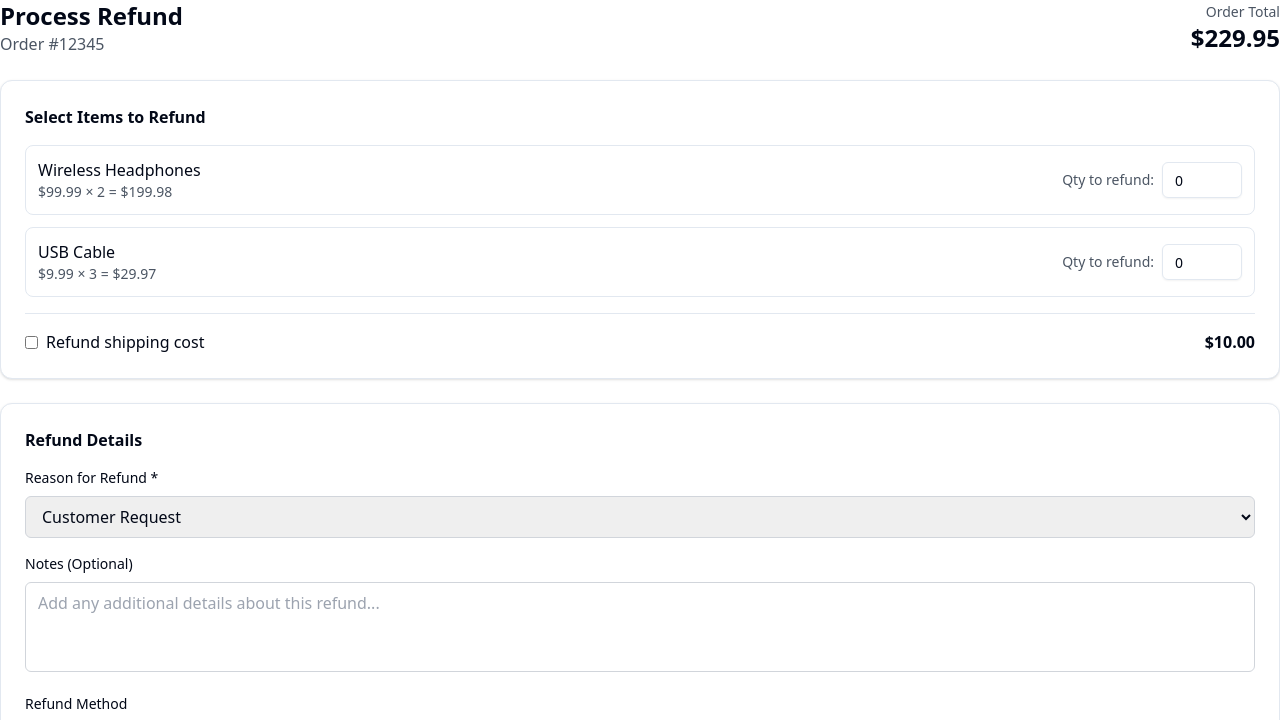
Test: RefundInterface › shows completion message after successful refund
Replace the text in the number field with test id "qty-1" with "1". click: (1202,180)
box: x1=1162 y1=162 x2=1242 y2=198
(page scrolled)
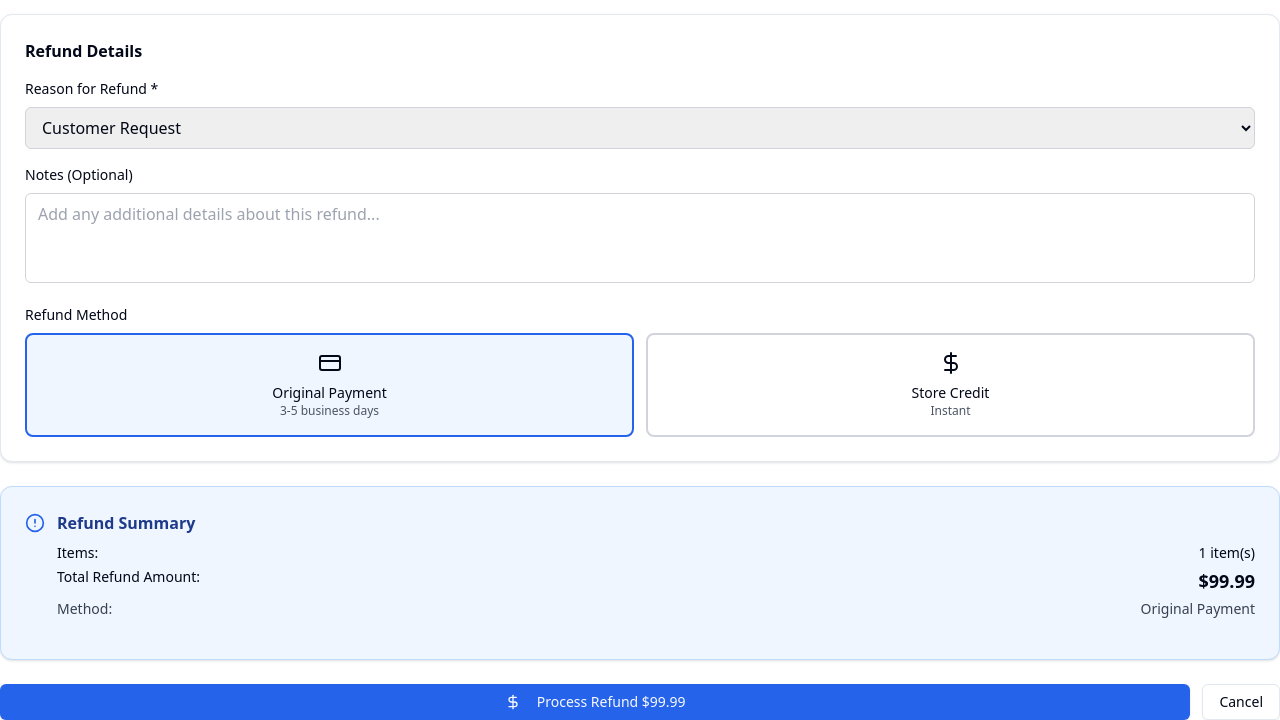
Click the button with test id "submit-refund". click: (595,702)
box: x1=0 y1=684 x2=1190 y2=719
(page scrolled)
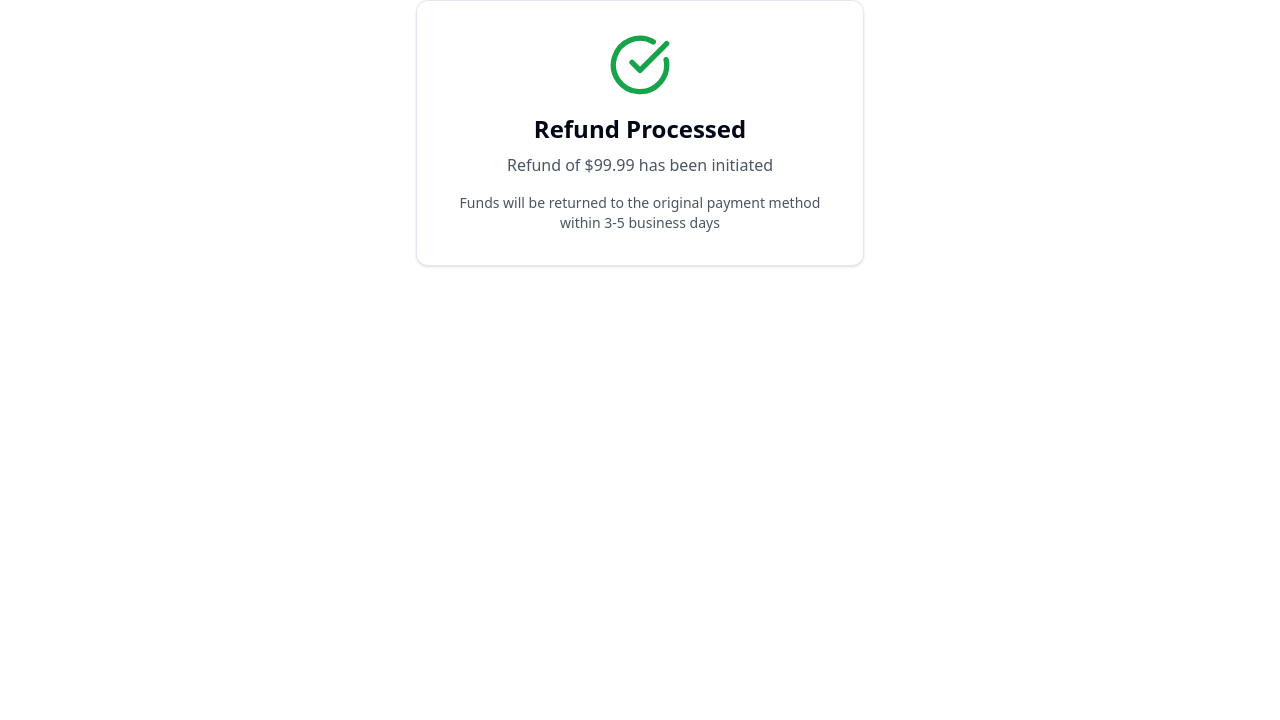
Check: the element with test id "refund-complete" is shown, box x1=416 y1=0 x2=864 y2=266
Check: the heading "Refund Processed" is shown, box x1=534 y1=112 x2=746 y2=145
